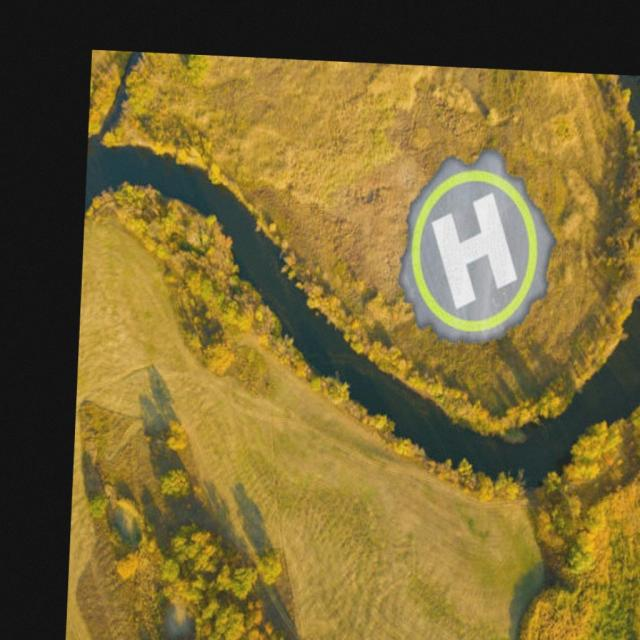helipad: (403, 162, 542, 336)
